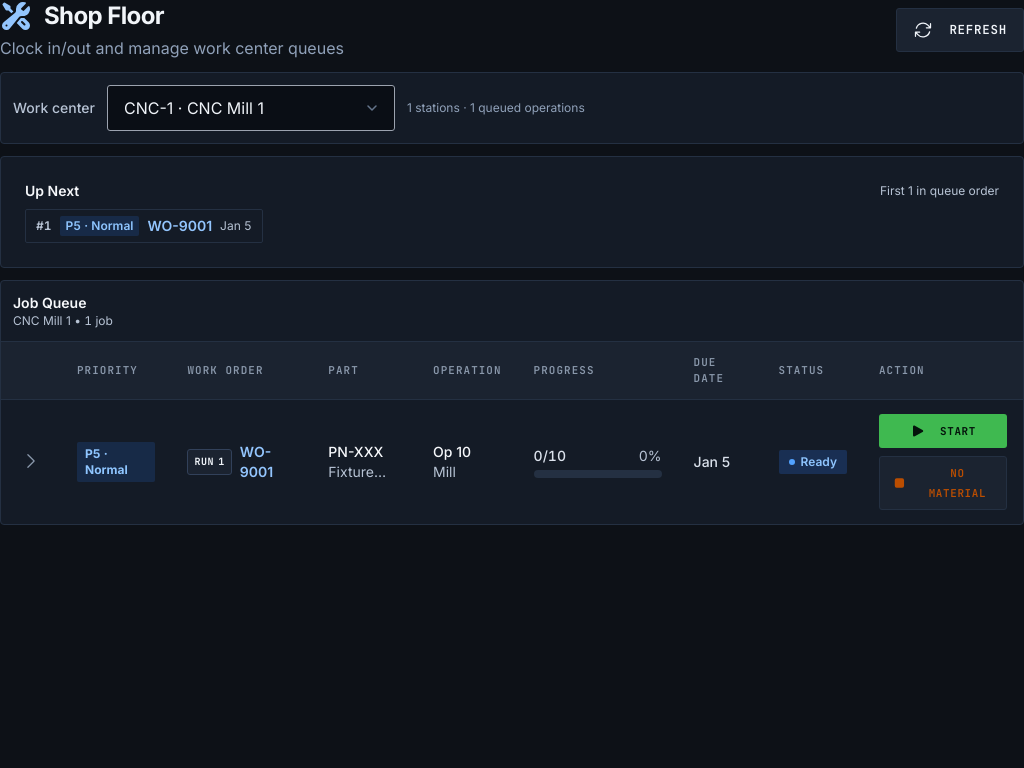
ShopFloor material-blocker InputDialog › submit posts the blocker with the entered note, refreshes the queue, and closes
Click the button "No Material". click: click(943, 483)
box: [879, 456, 1007, 510]
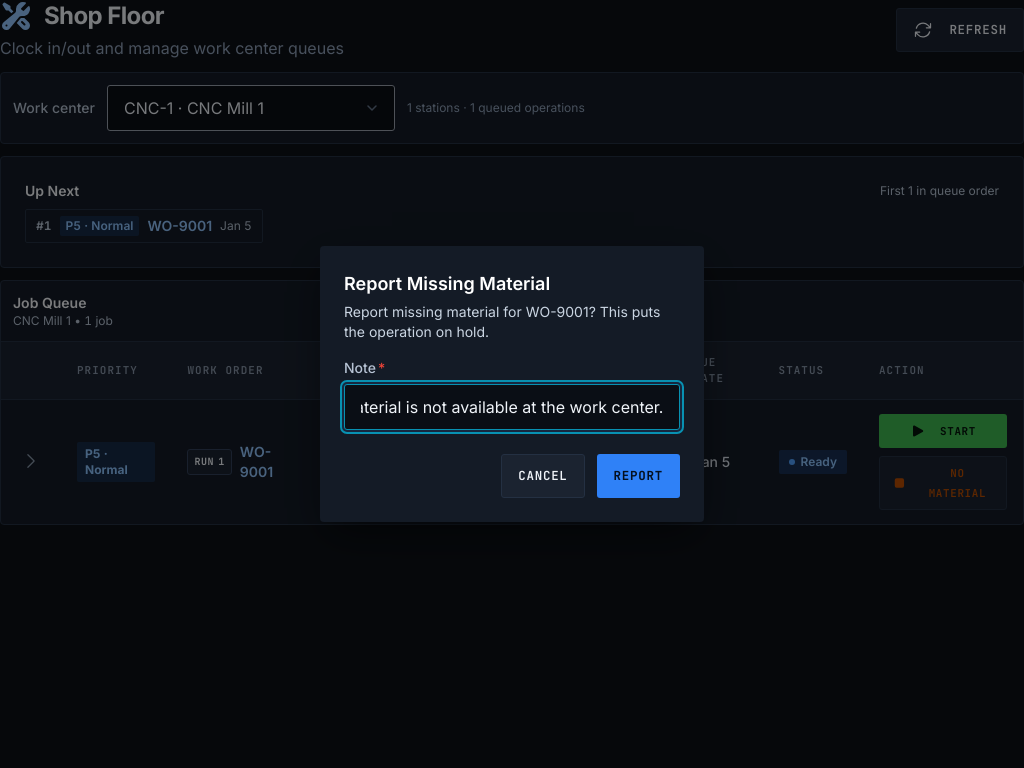
Replace the text in the field labelled "Note*" with "  4140 plate not at the saw  ". click: (512, 407)
box: [344, 384, 680, 430]
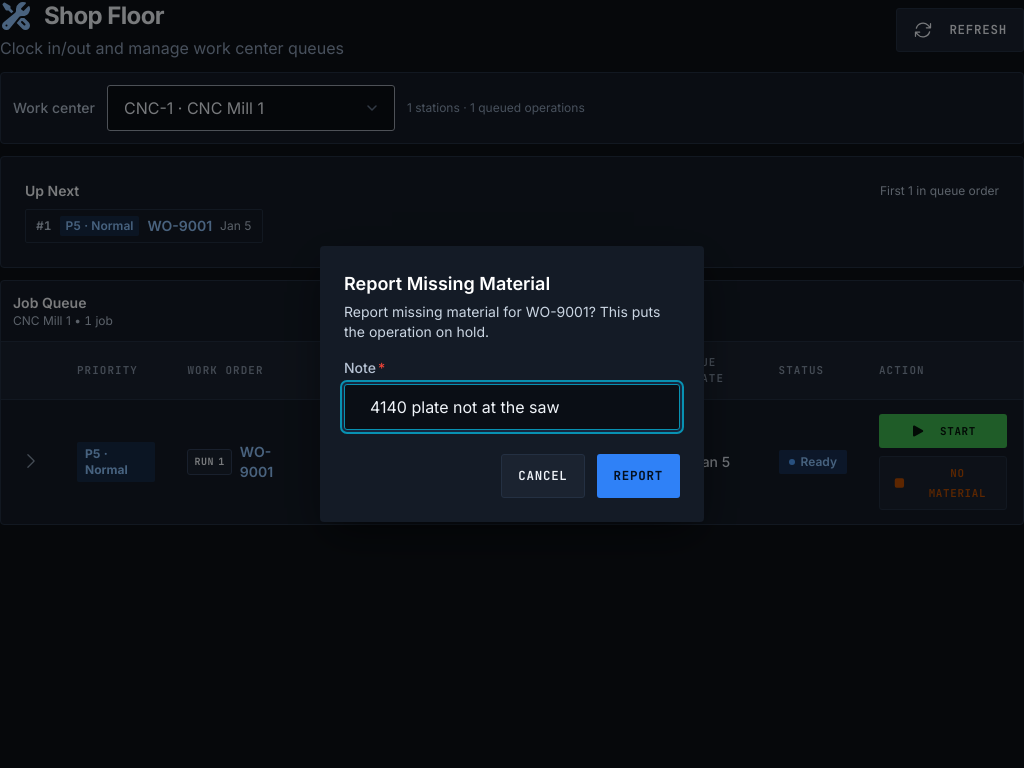
Click the button "Report". click: click(638, 476)
box: [597, 454, 680, 498]
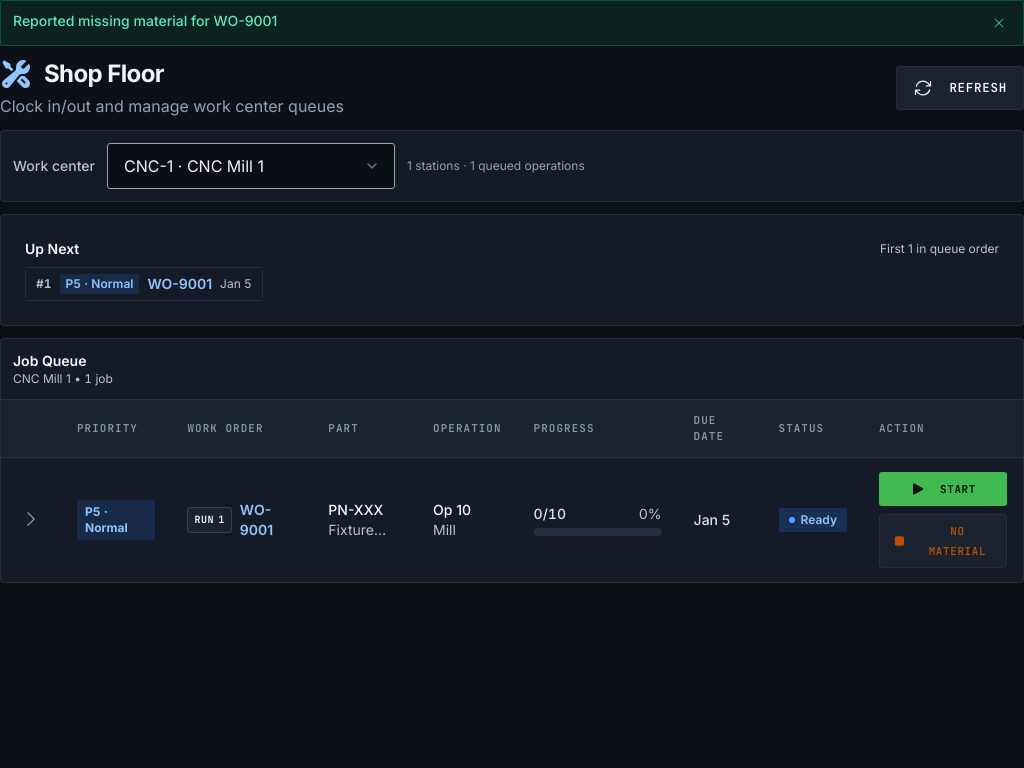
Now the dialog is gone
